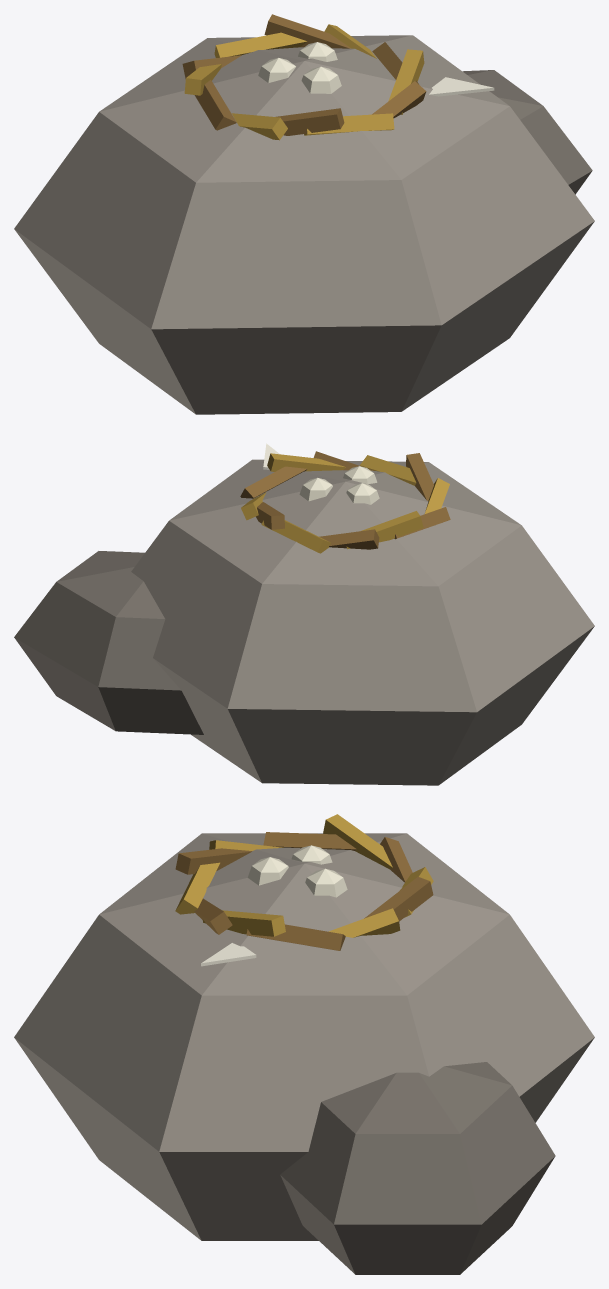
Rendered from nest.glb.
The picture shows the model from 3 angles, top to bottom: view 1: azimuth 30°, elevation 25°; view 2: azimuth 150°, elevation 25°; view 3: azimuth 270°, elevation 25°; orthographic projection. The views are drawn at different scales.
Parts seen in each view (by area): view 1: nature_nest; view 2: nature_nest; view 3: nature_nest.
Part boxes in pixels (<box>): nature_nest: <box>14,14,594,414</box>; nature_nest: <box>14,443,594,785</box>; nature_nest: <box>14,814,594,1274</box>.
Bounding box in the file's own units: 1.86 × 1.13 × 1.69.
